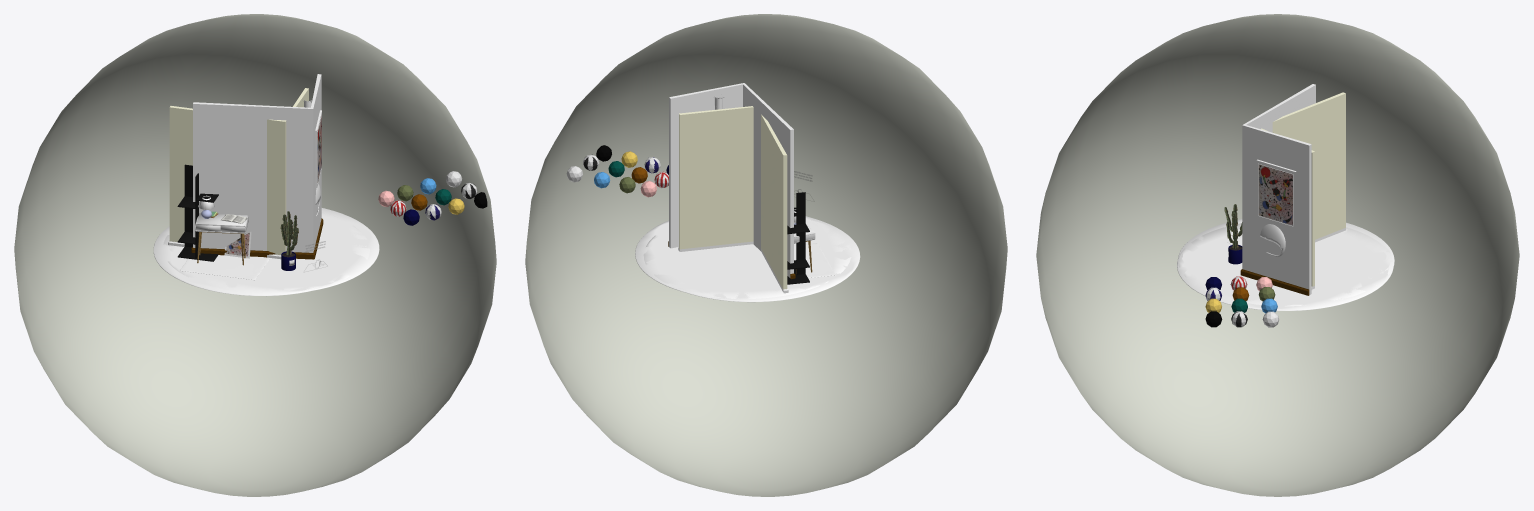
The model's file is bycharlot_collectionneur.gltf.
The picture shows the model from 3 angles, left to right: view 1: azimuth 30°, elevation 25°; view 2: azimuth 150°, elevation 25°; view 3: azimuth 270°, elevation 25°; orthographic projection.
Parts seen in each view (by area): view 1: Sphere, Mur_parquet, Mur, Floor_marble, Floor_wood, Shoe Cabine, tapis, Meuble, plinthe, Euphorbia_2; view 2: Sphere, Mur, Mur_parquet, Floor_marble, Floor_wood, Shoe Cabine, tapis; view 3: Sphere, Mur_parquet, Floor_marble, Mur, Floor_wood, tableau_mur.
Part boxes in pixels (box(x1,y1,x2,y2)): Sphere: box(14, 14, 496, 496); Mur_parquet: box(193, 74, 321, 252); Mur: box(169, 88, 308, 254); Floor_marble: box(163, 208, 379, 293); Floor_wood: box(153, 212, 369, 296); Shoe Cabine: box(177, 164, 218, 261); tapis: box(180, 255, 270, 280); Meuble: box(195, 213, 248, 265); plinthe: box(191, 218, 323, 259); Euphorbia_2: box(280, 211, 298, 255); Sphere: box(525, 14, 1007, 496); Mur: box(679, 106, 787, 291); Mur_parquet: box(669, 83, 793, 277); Floor_marble: box(635, 216, 851, 298); Floor_wood: box(643, 216, 860, 302); Shoe Cabine: box(787, 192, 809, 284); tapis: box(794, 243, 835, 278); Sphere: box(1036, 14, 1519, 496); Mur_parquet: box(1242, 84, 1315, 294); Floor_marble: box(1177, 223, 1393, 310); Mur: box(1261, 92, 1345, 289); Floor_wood: box(1178, 219, 1394, 306); tableau_mur: box(1256, 159, 1296, 229).
Size of the model in its own units: 8 by 8 by 8.
Materials: 43 (9 with a texture image).
